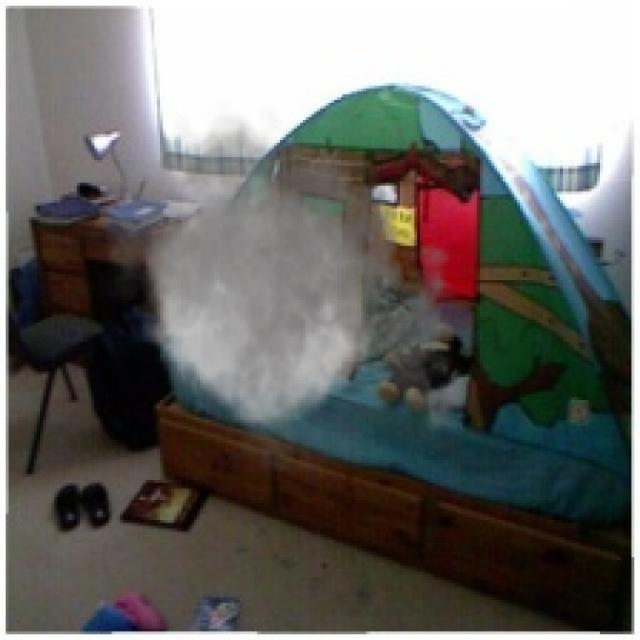smoke: (89, 100, 474, 497)
